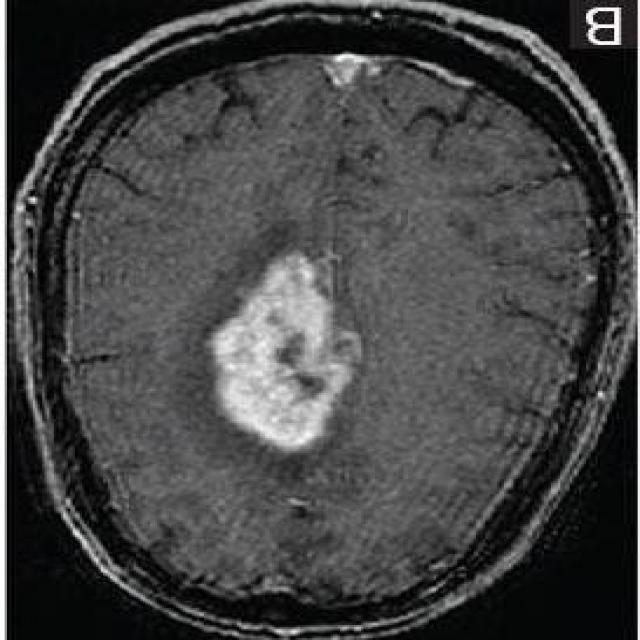brain tumor: (202, 249, 368, 453)
